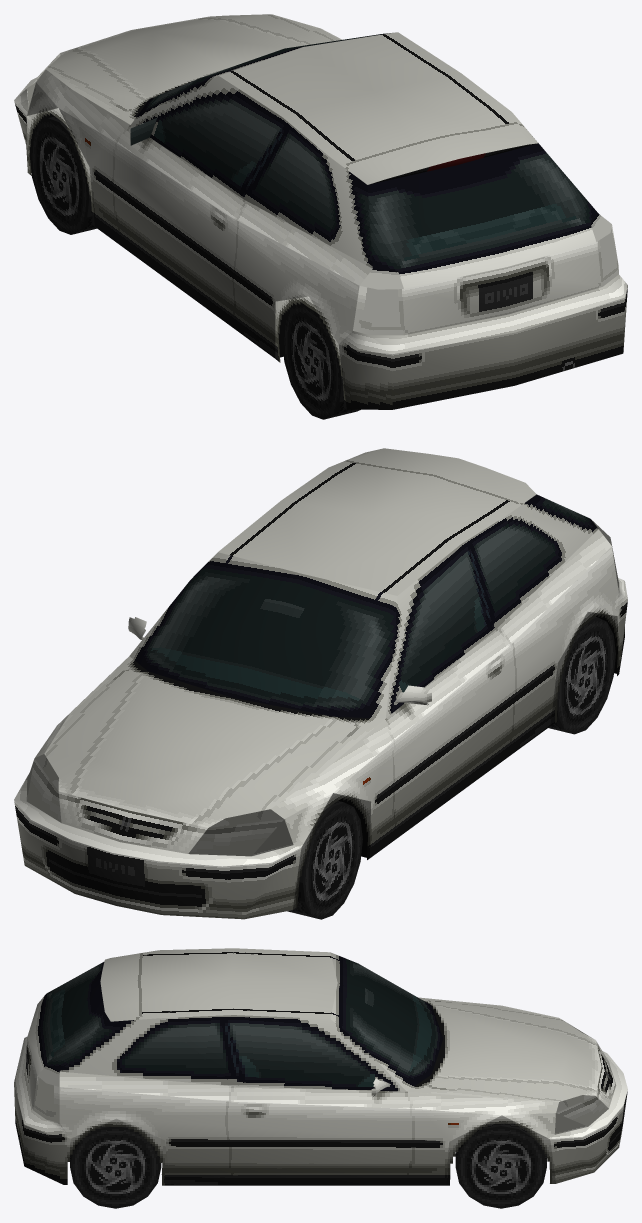
Rendered from GT_SIMULATION__HCVNN_NIGHT.glb.
3 views of the same model, one above another, from view 1: azimuth 30°, elevation 25°; view 2: azimuth 150°, elevation 25°; view 3: azimuth 270°, elevation 25° (orthographic). The views are drawn at different scales.
Visible parts, largest first — view 1: Native body LOD0, Native wheel 0, Native wheel 2; view 2: Native body LOD0, Native wheel 0, Native wheel 2; view 3: Native body LOD0, Native wheel 1, Native wheel 3.
Part boxes in pixels (x1,y1,x2,y2): Native body LOD0: (14,14,627,409); Native wheel 0: (29,116,96,234); Native wheel 2: (282,302,360,419); Native body LOD0: (14,448,627,919); Native wheel 0: (287,801,362,919); Native wheel 2: (548,617,615,734); Native body LOD0: (14,948,627,1185); Native wheel 1: (455,1123,546,1208); Native wheel 3: (70,1126,161,1208).
Size of the model in its own units: 1.82 by 1.36 by 4.19.
10 materials, 8 textured.
